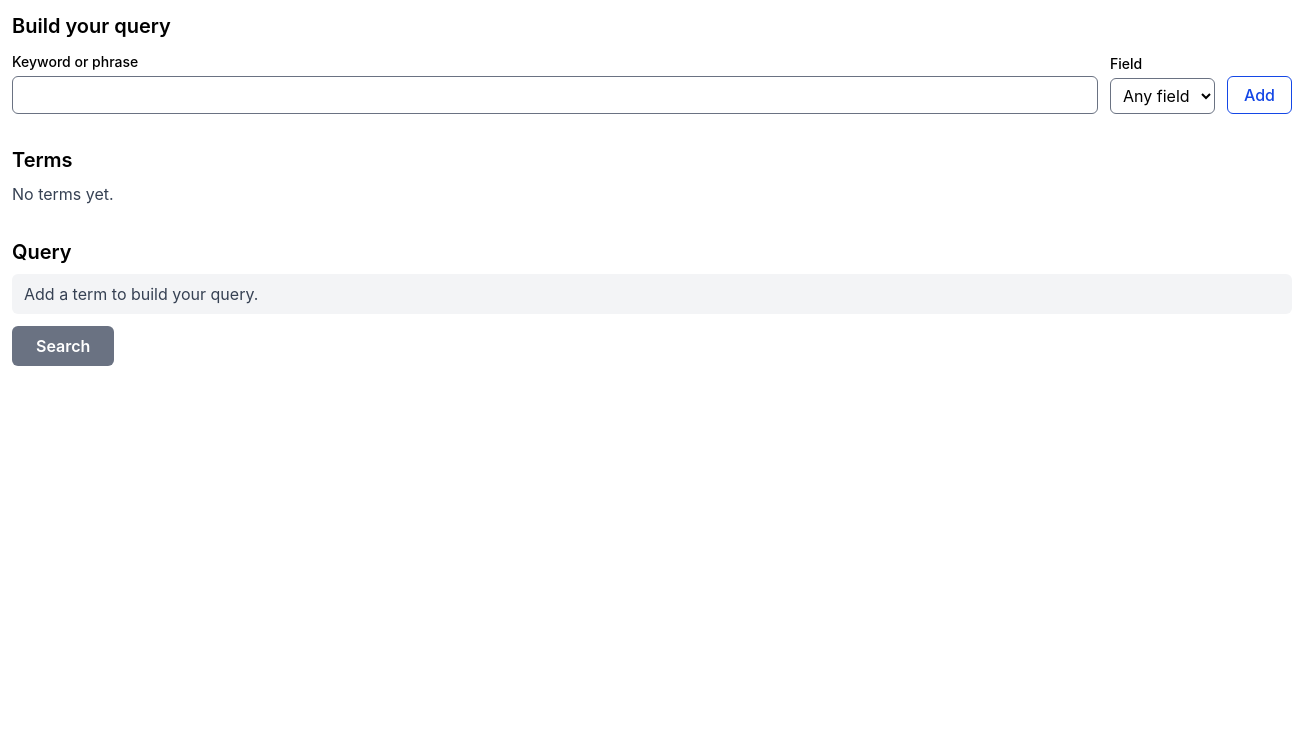
Test: SearchWorkspace › shows the query as it is built
Type "cancer" into the field labelled "Keyword or phrase" at (555, 95), box [12, 76, 1098, 114]
Click the button "Add" at (1260, 95), box [1227, 76, 1292, 114]
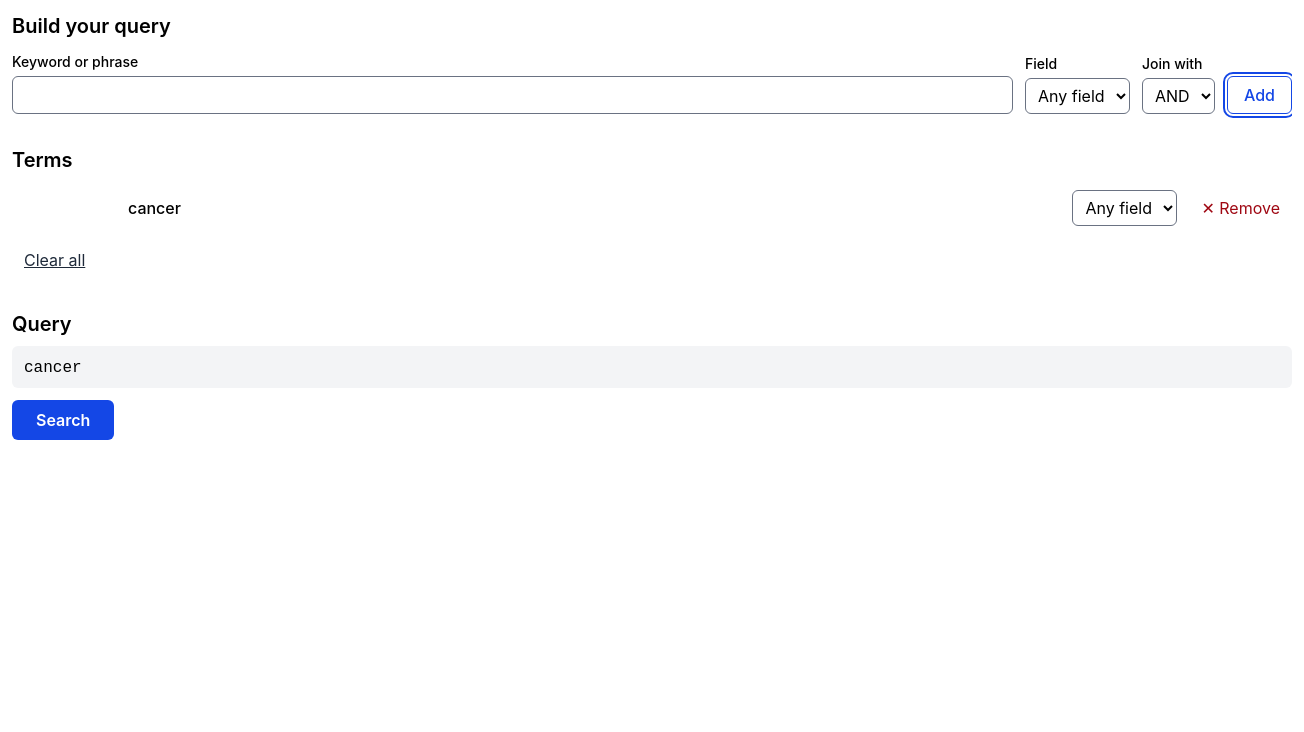
Type "immunotherapy" into the field labelled "Keyword or phrase" at (512, 95), box [12, 76, 1013, 114]
Select "AND" in the dropdown labelled "Join with" at (1178, 96), box [1142, 78, 1215, 114]
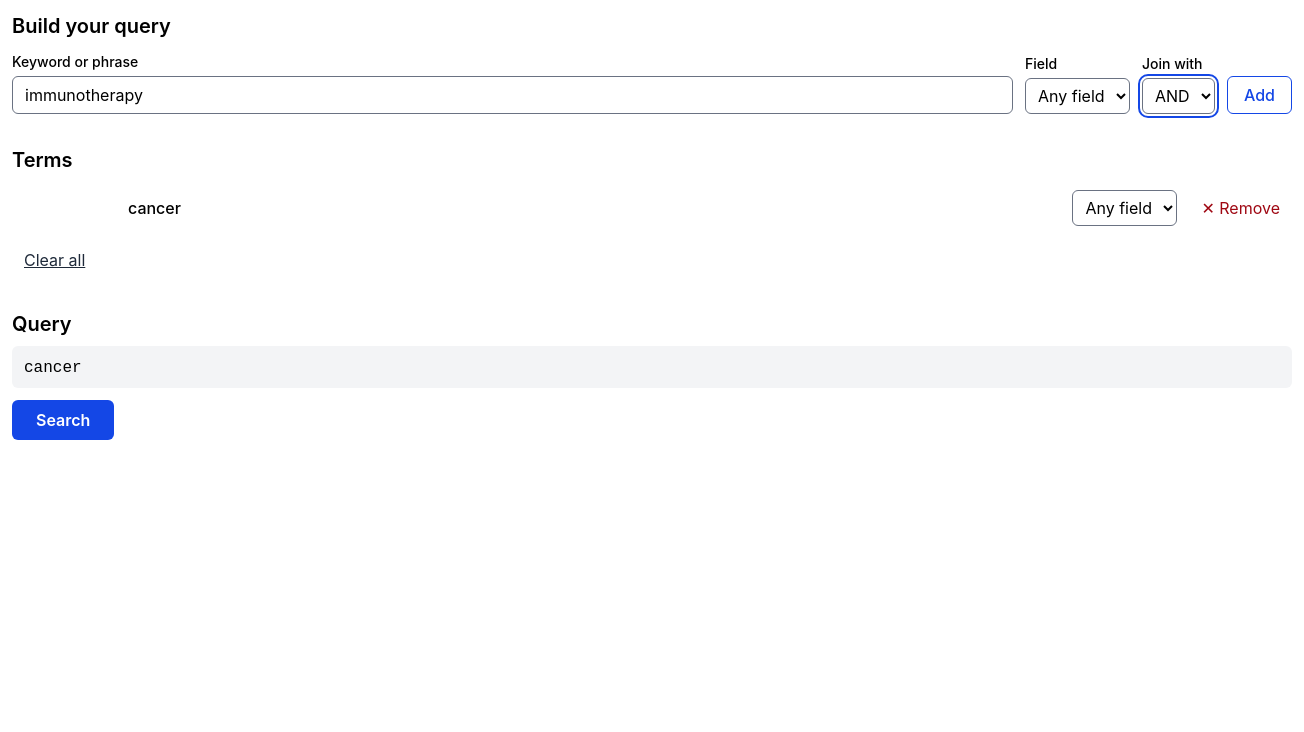
Click the button "Add" at (1260, 95), box [1227, 76, 1292, 114]
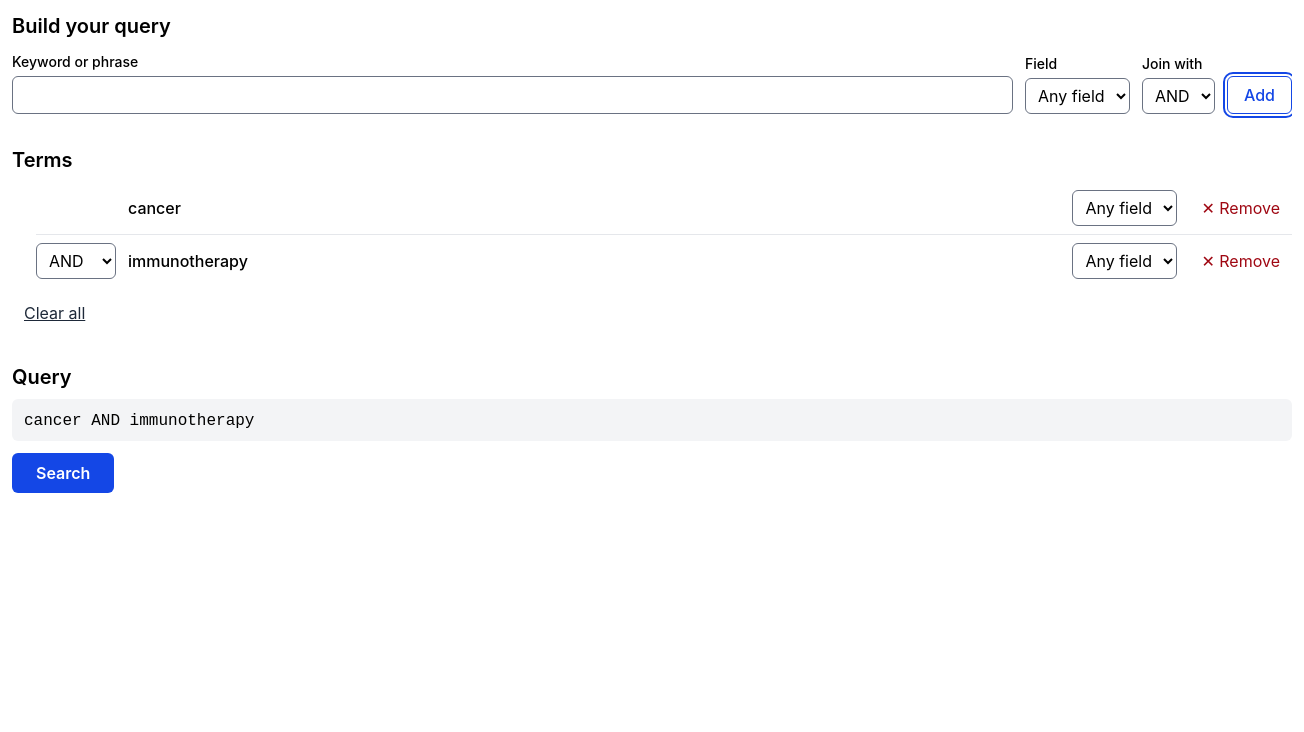
Type "melanoma" into the field labelled "Keyword or phrase" at (512, 95), box [12, 76, 1013, 114]
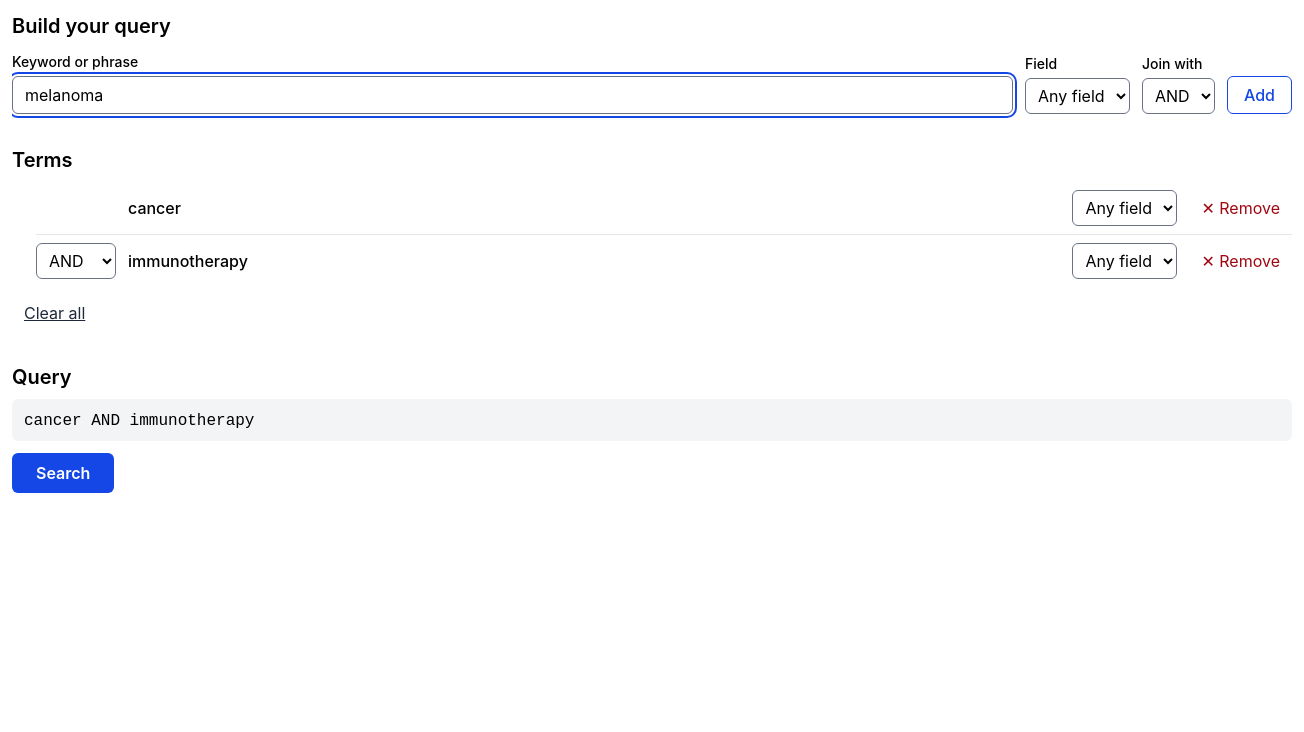
Select "NOT" in the dropdown labelled "Join with" at (1178, 96), box [1142, 78, 1215, 114]
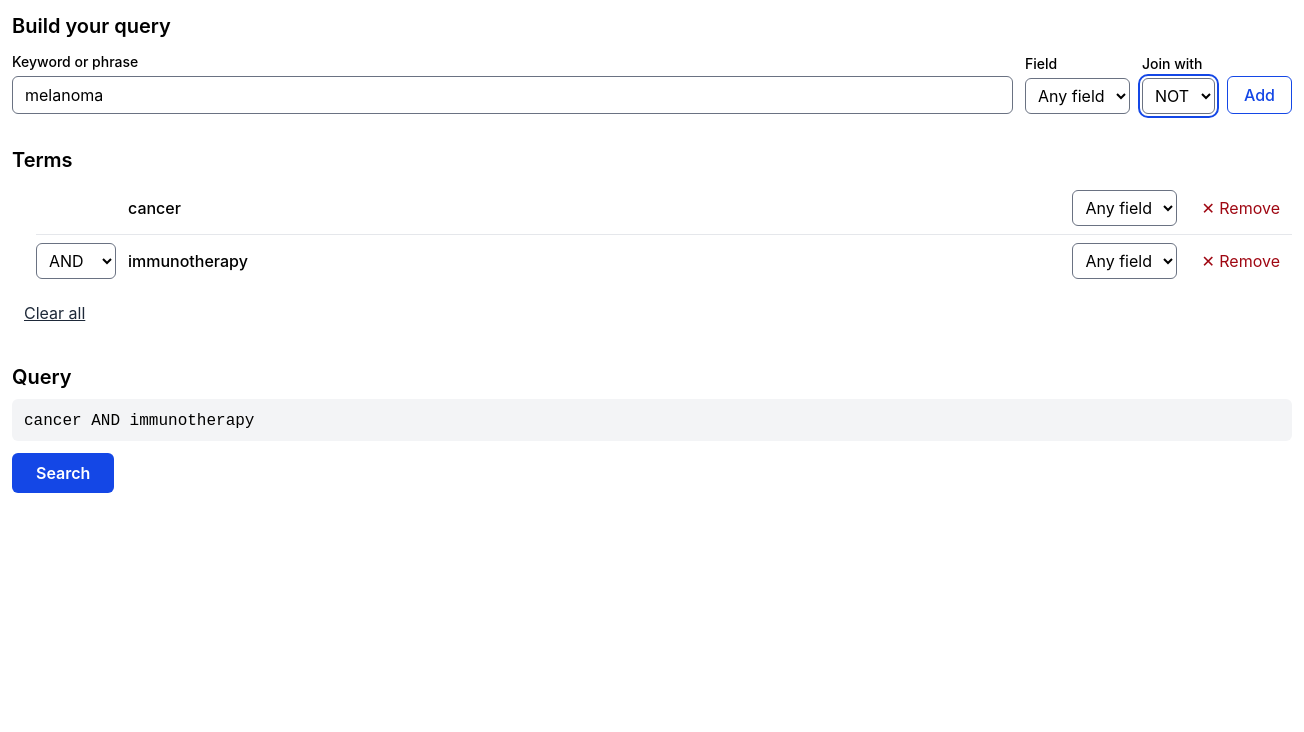
Click the button "Add" at (1260, 95), box [1227, 76, 1292, 114]
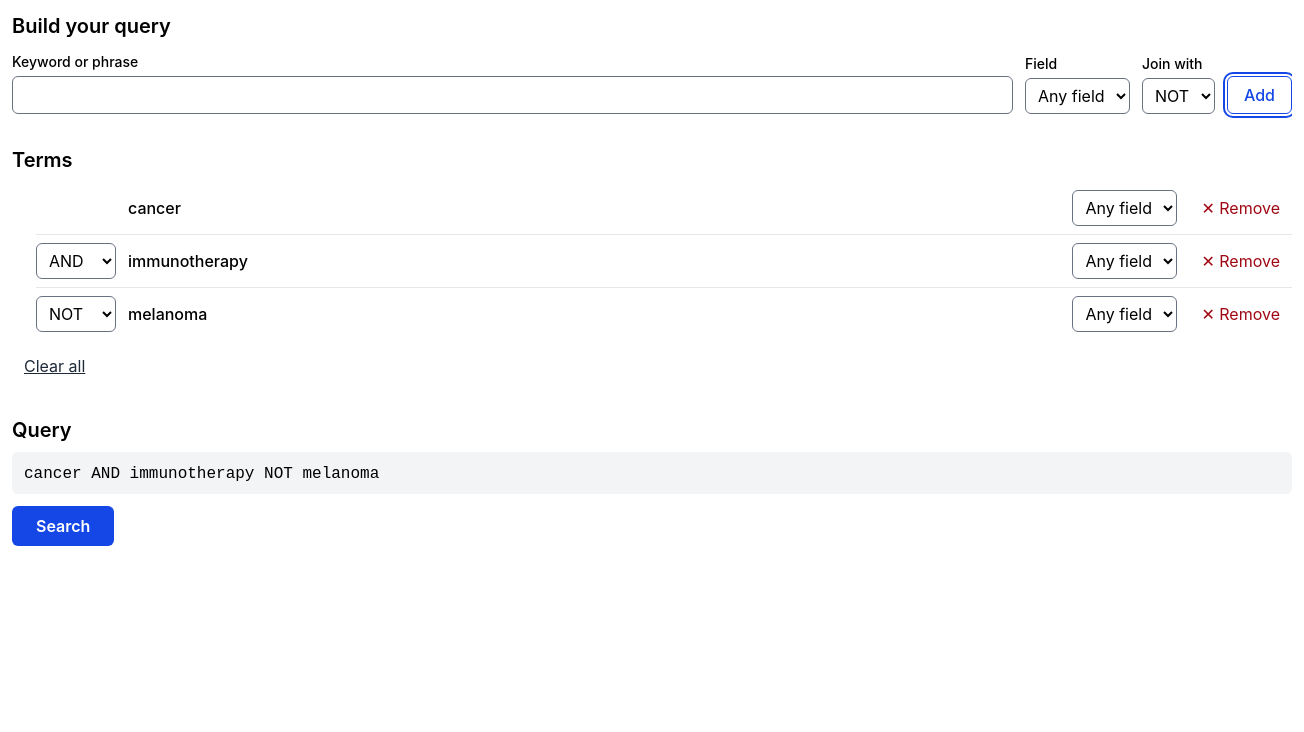
expect the text "cancer AND immunotherapy NOT melanoma" is shown: met, box [24, 465, 379, 483]
expect the number of list items is 3: met, box [36, 182, 1292, 235]; [36, 235, 1292, 288]; [36, 288, 1292, 340]
